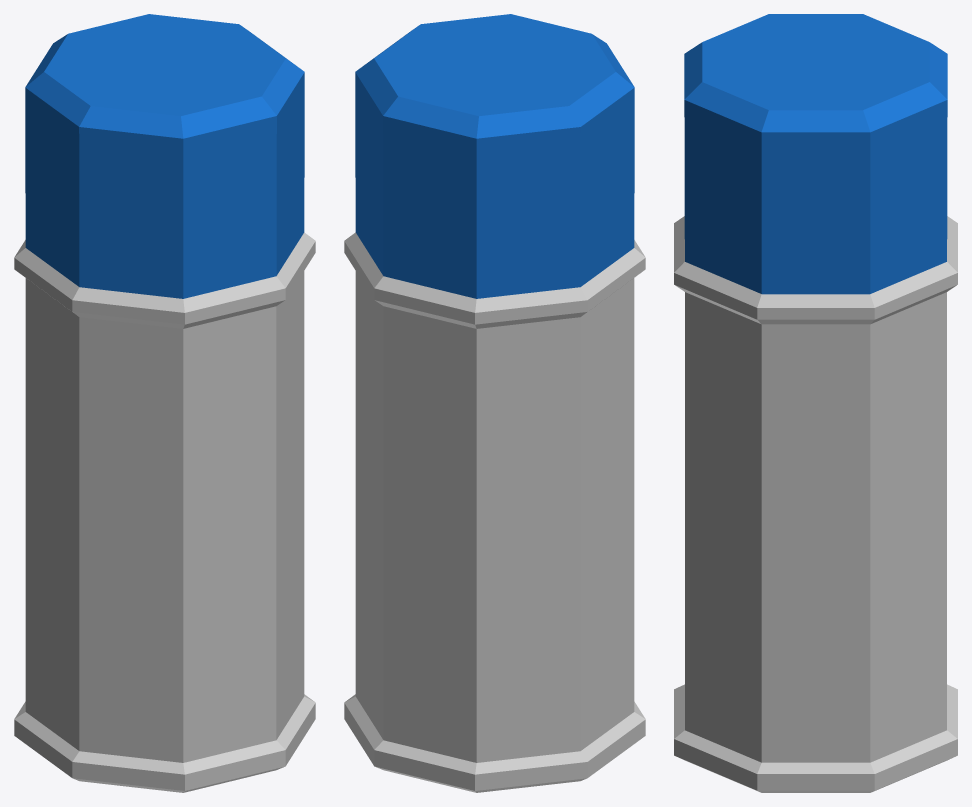
File: space_paint_4.fbx
The picture shows the model from 3 angles, left to right: view 1: azimuth 30°, elevation 25°; view 2: azimuth 150°, elevation 25°; view 3: azimuth 270°, elevation 25°; orthographic projection.
Parts seen in each view (by area): view 1: Cylinder_71, Cylinder_120; view 2: Cylinder_71, Cylinder_120; view 3: Cylinder_71, Cylinder_120.
Boxes of the visible parts, box(x1,y1,x2,y2) form: Cylinder_71: box(14, 232, 315, 792); Cylinder_120: box(25, 14, 304, 298); Cylinder_71: box(344, 232, 645, 792); Cylinder_120: box(355, 14, 634, 298); Cylinder_71: box(674, 216, 957, 792); Cylinder_120: box(684, 14, 947, 294).
Bounding box in the file's own units: 7.05 × 18.52 × 7.05.
